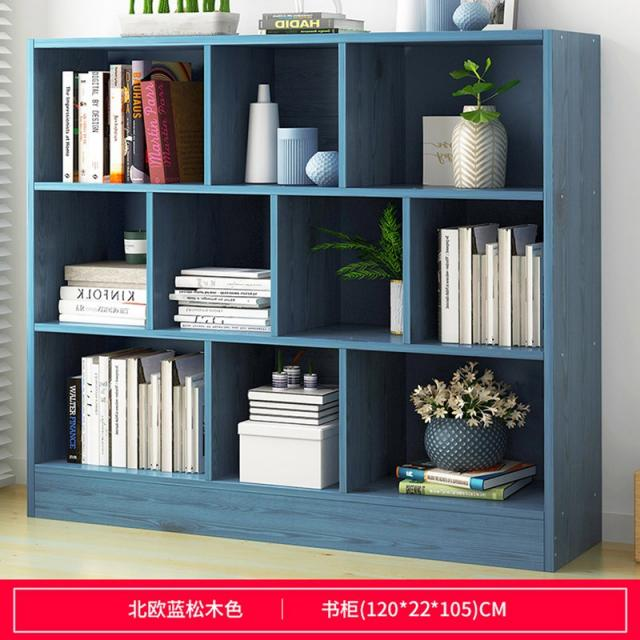Shelf: (23, 23, 615, 569)
